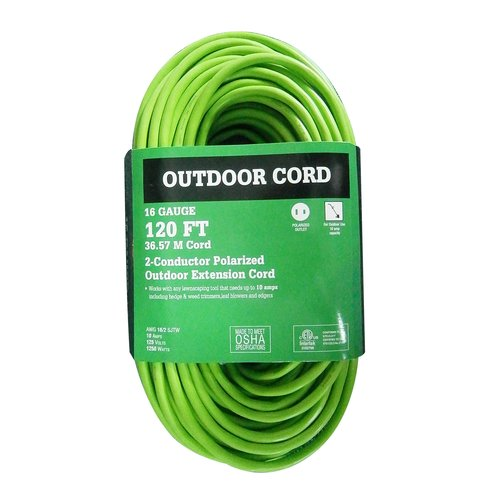Nonrec_Tangler: (102, 19, 394, 483)
